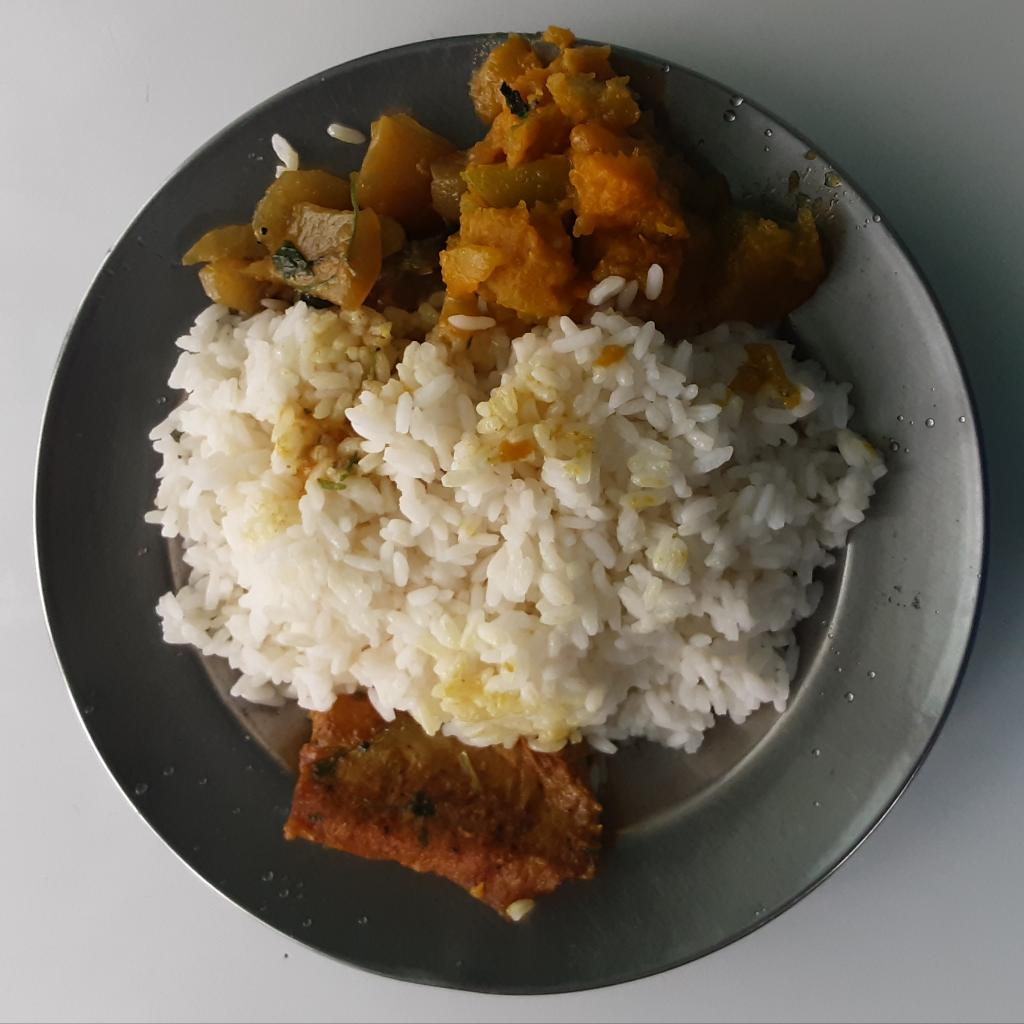dundol: (180, 90, 460, 305)
fish: (283, 694, 611, 923)
kumra-vaji: (428, 15, 839, 335)
rice: (144, 296, 885, 763)
